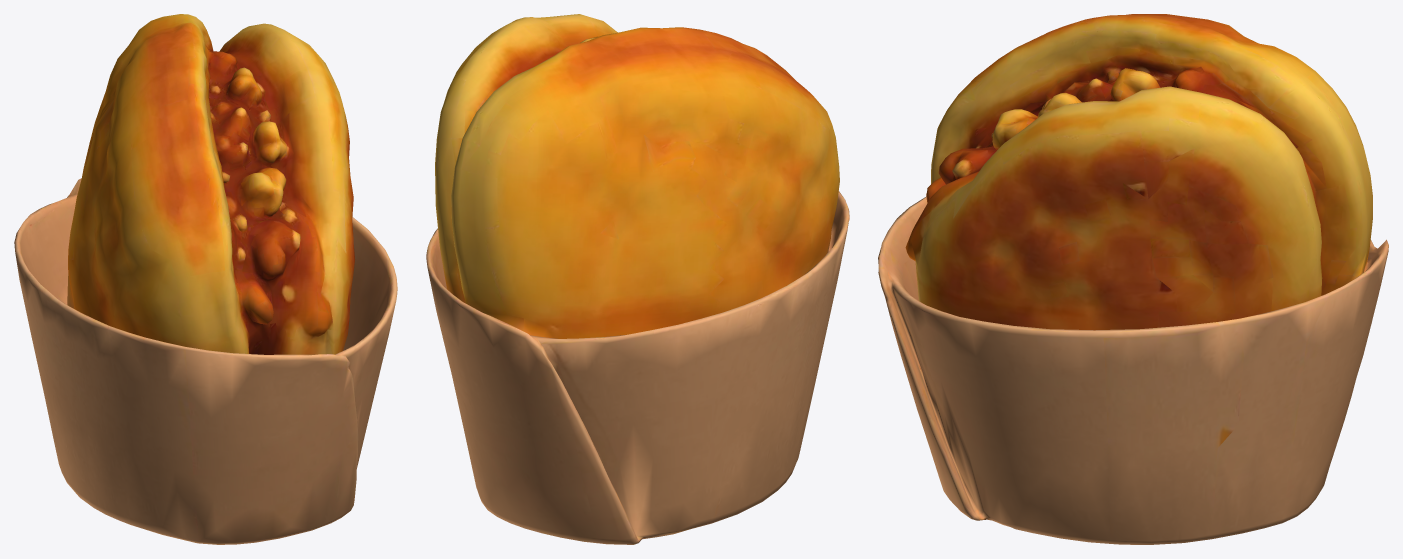
3 renders of one model, left to right at view 1: azimuth 30°, elevation 25°; view 2: azimuth 150°, elevation 25°; view 3: azimuth 270°, elevation 25°, orthographic. The views are drawn at different scales.
Parts seen in each view (by area): view 1: hotteok; view 2: hotteok; view 3: hotteok.
Boxes of the visible parts, <box> form: hotteok: <box>14,14,397,544</box>; hotteok: <box>426,14,849,544</box>; hotteok: <box>878,14,1388,544</box>.
Size of the model in its own units: 0.1326 by 0.17 by 0.1699.
Materials: 1 (1 with a texture image).
